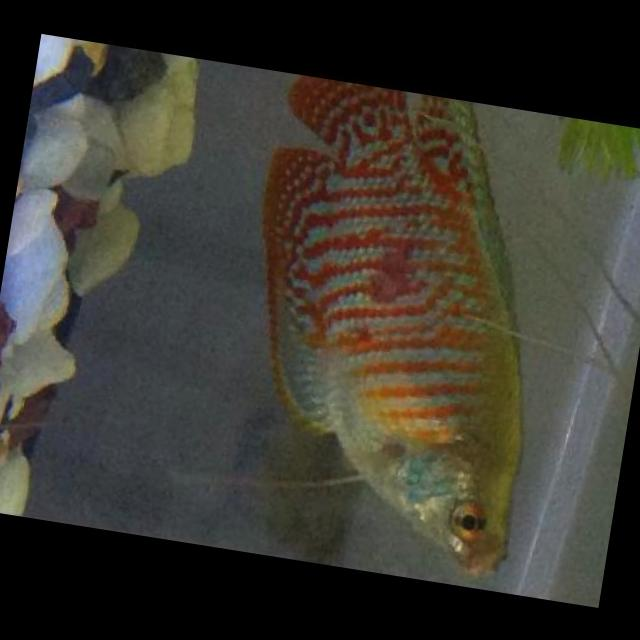Gourami: (209, 72, 582, 578)
